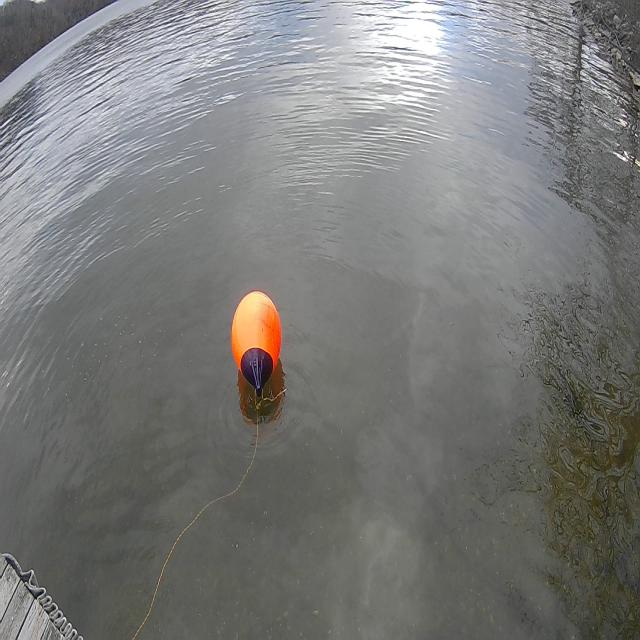Buoy: (228, 284, 285, 404)
